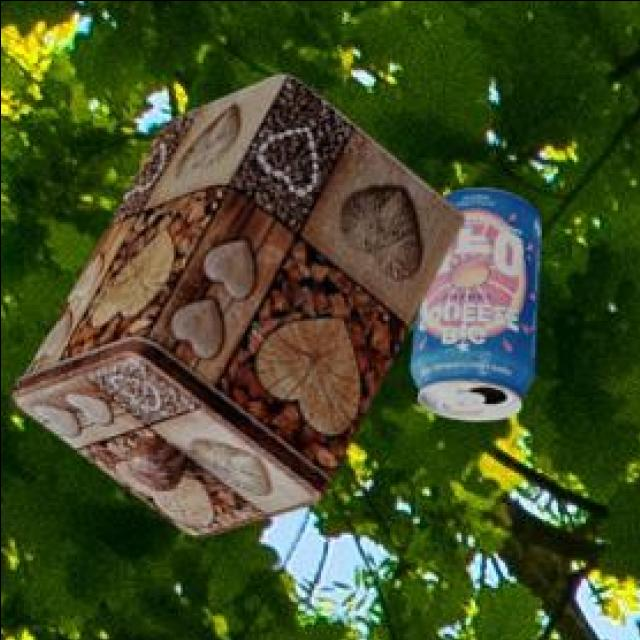logam: (15, 70, 466, 531), (413, 185, 542, 416)
